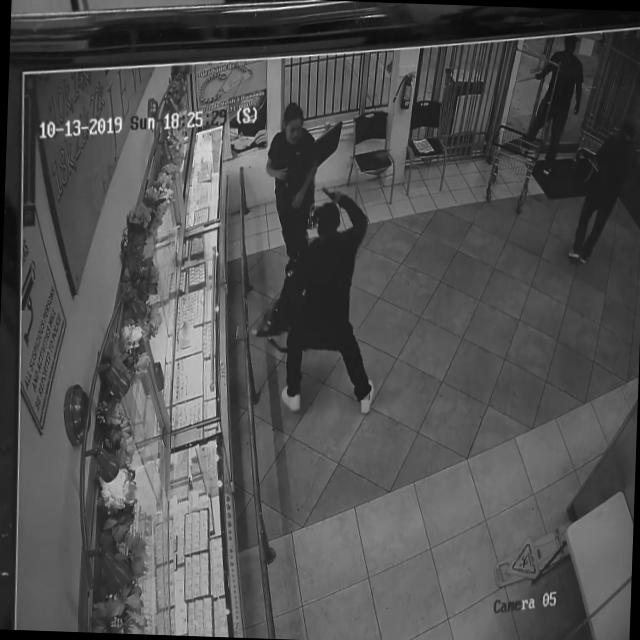gun: (320, 184, 340, 204)
person: (592, 111, 631, 248), (546, 33, 580, 158)
person with a gun: (272, 182, 382, 413)
